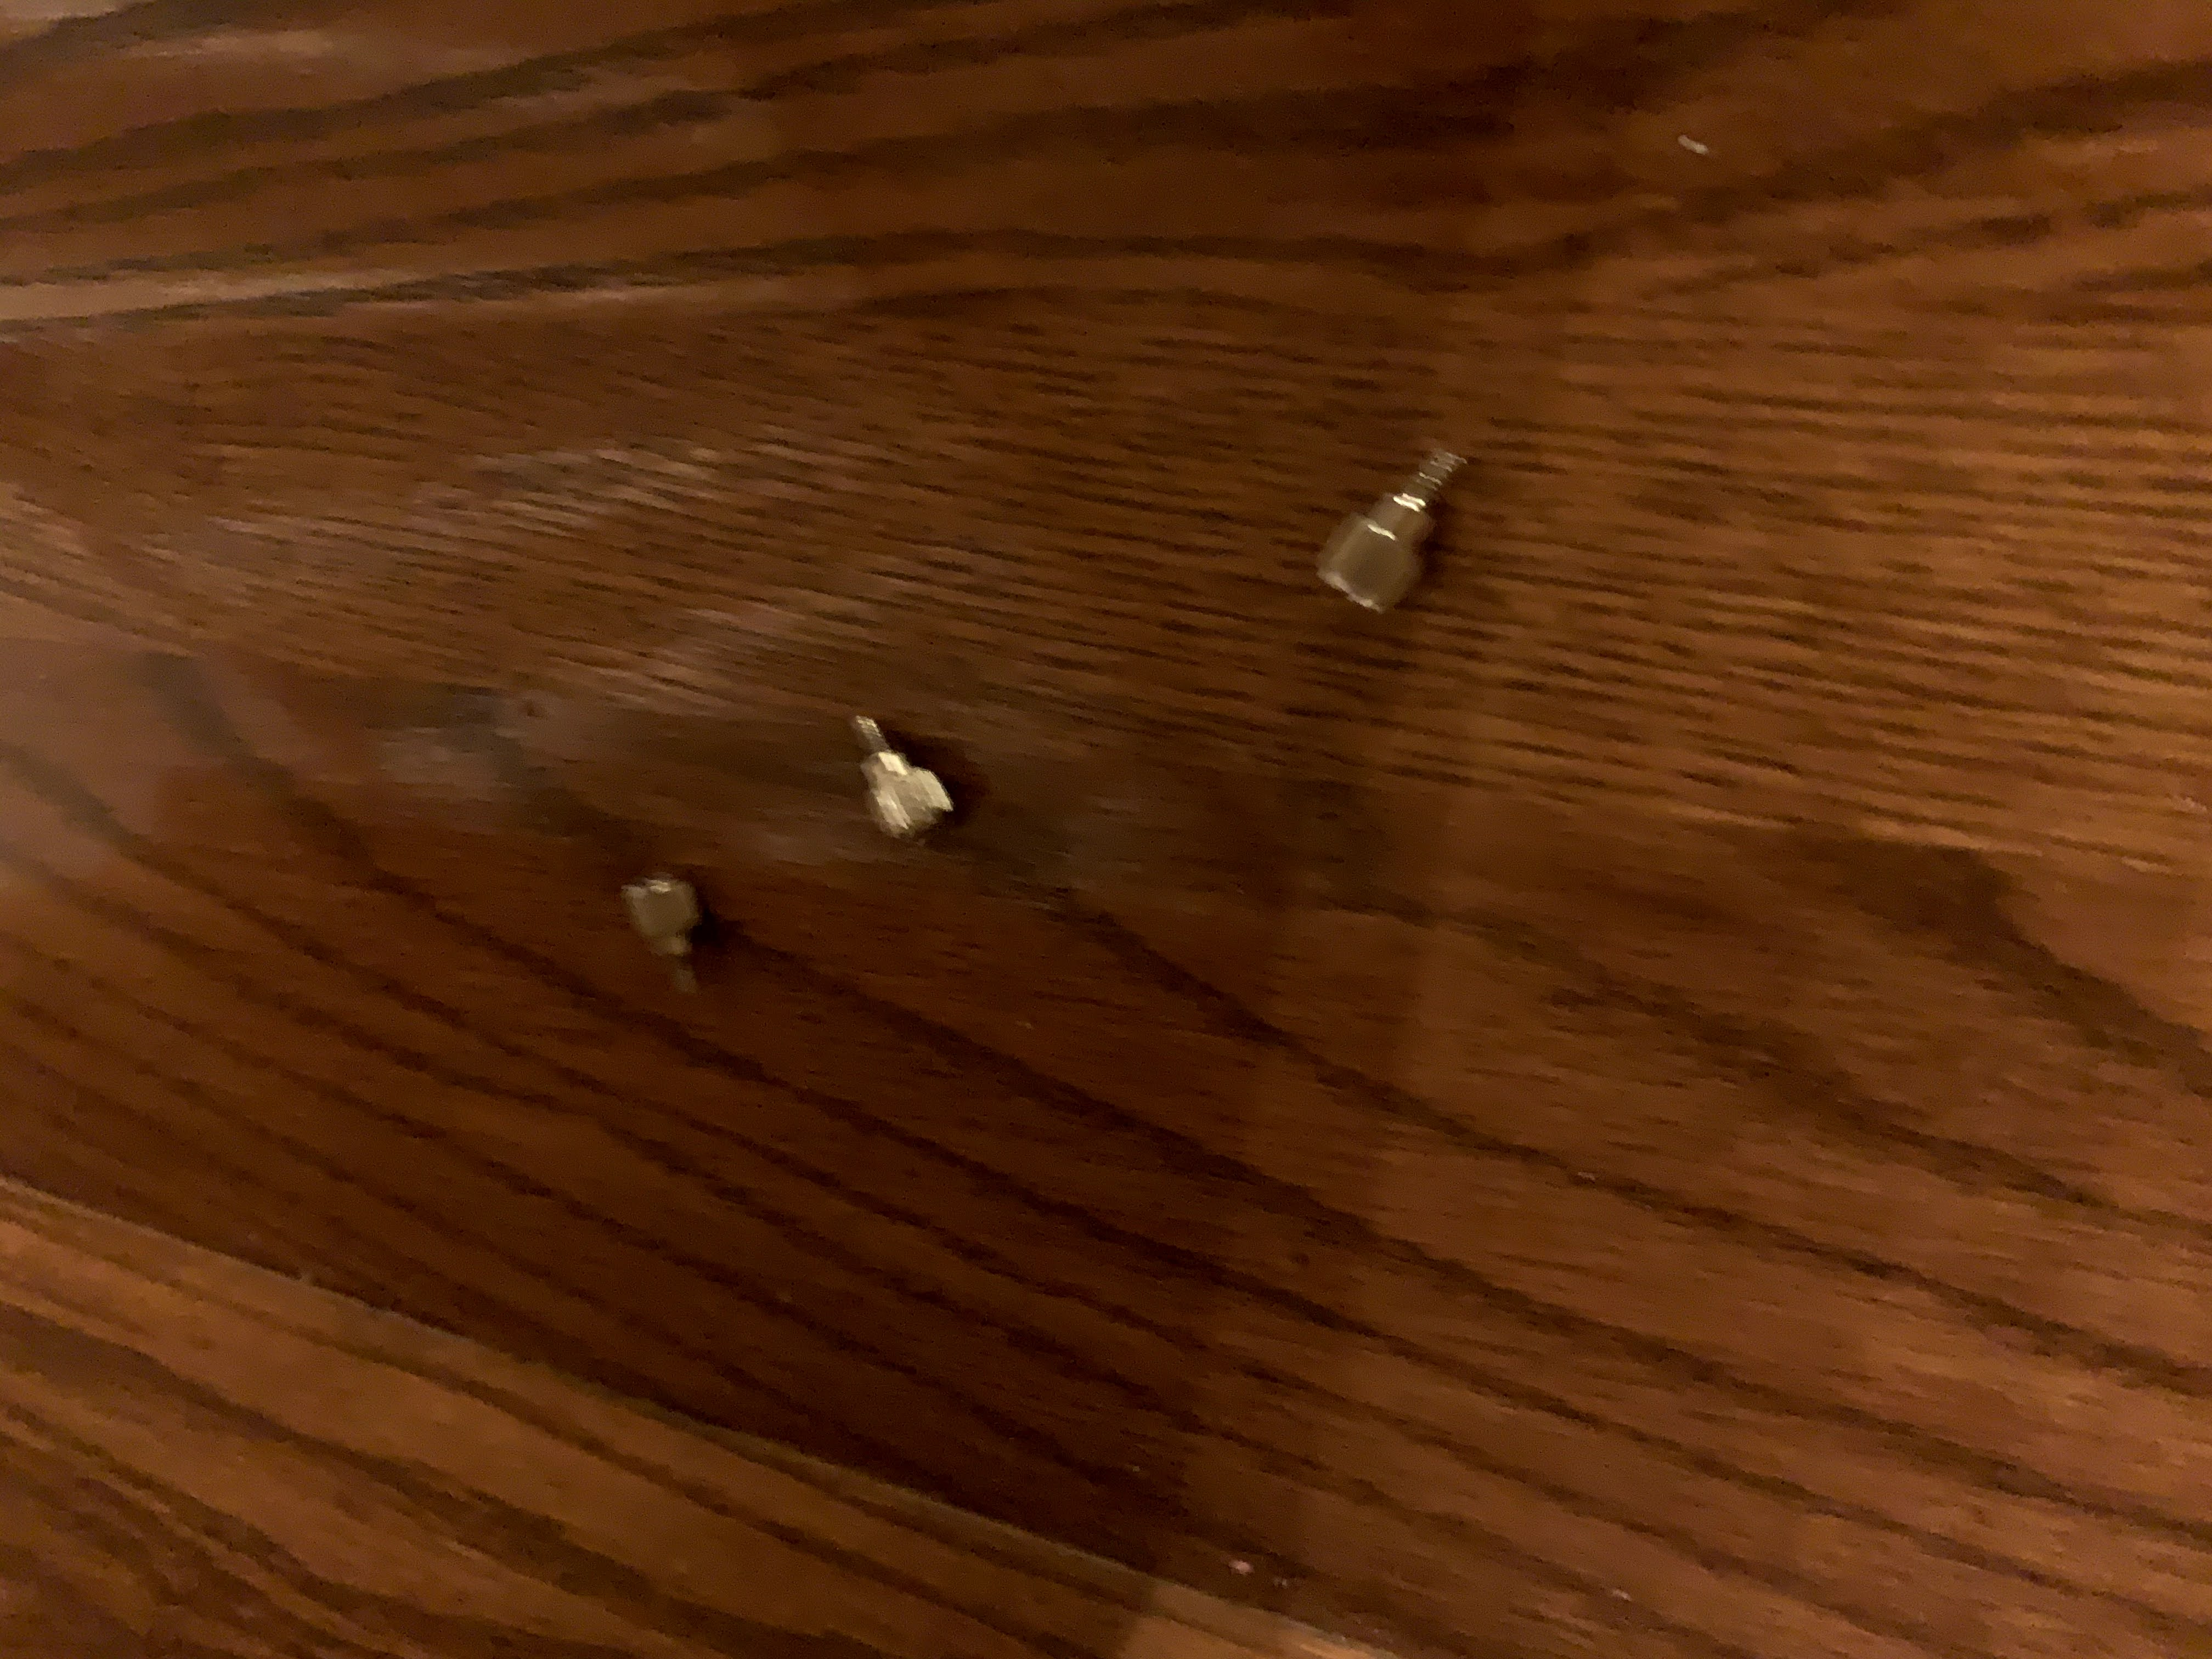Space-debris-small: (1305, 439, 1477, 629), (833, 702, 974, 856), (610, 863, 725, 1011)
